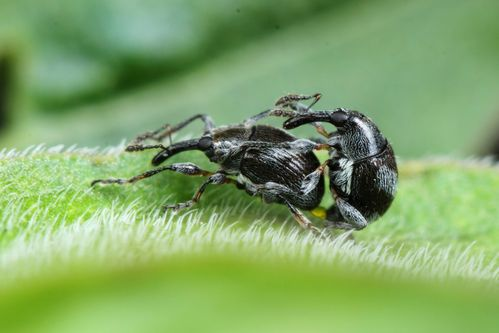Curculionidae: (90, 107, 327, 240), (274, 91, 397, 230)
